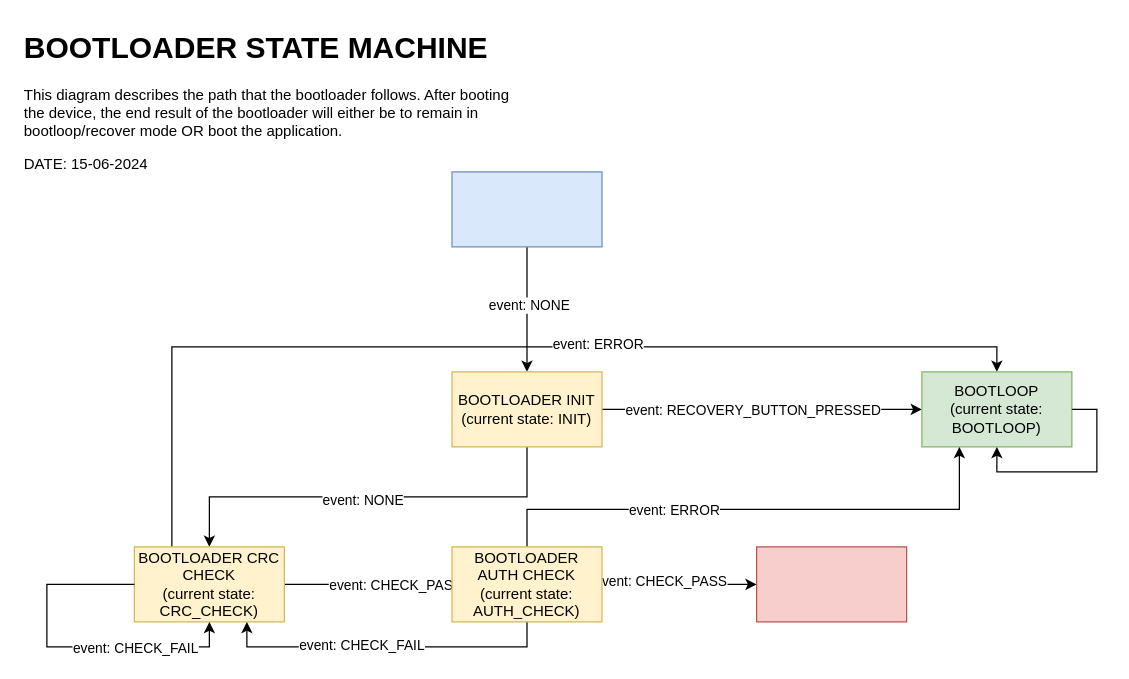
This 1129x679 diagram has some shape labels left out. The centre of each missing label's shape, as x and y in pixels:
BOOT APP (current state: BOOT_APP): the point at 831,584
DEVICE BOOT (current state: NONE): the point at 526,209
